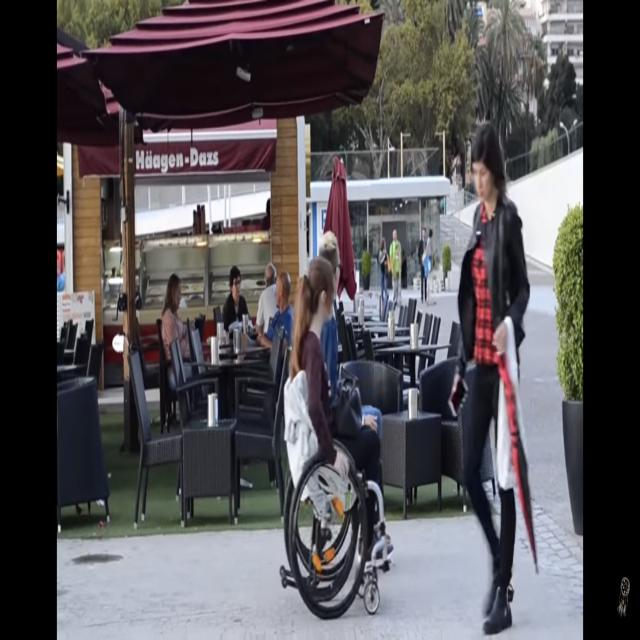wheelchairs: (276, 368, 394, 619)
